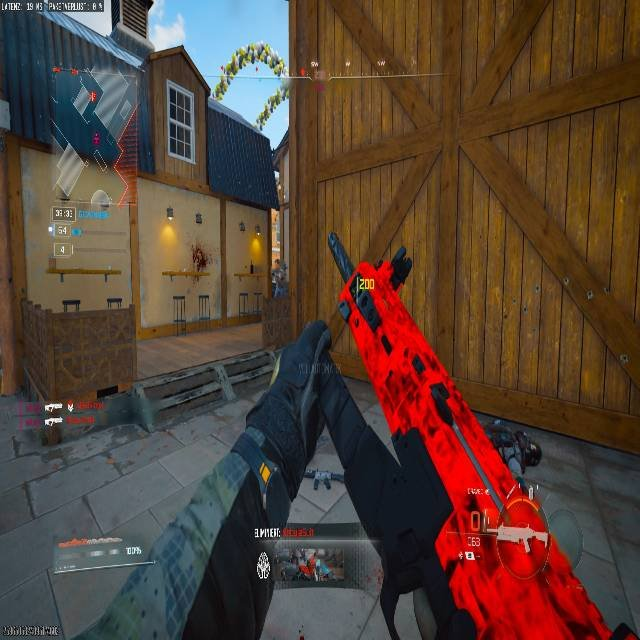player: (271, 258, 286, 295)
